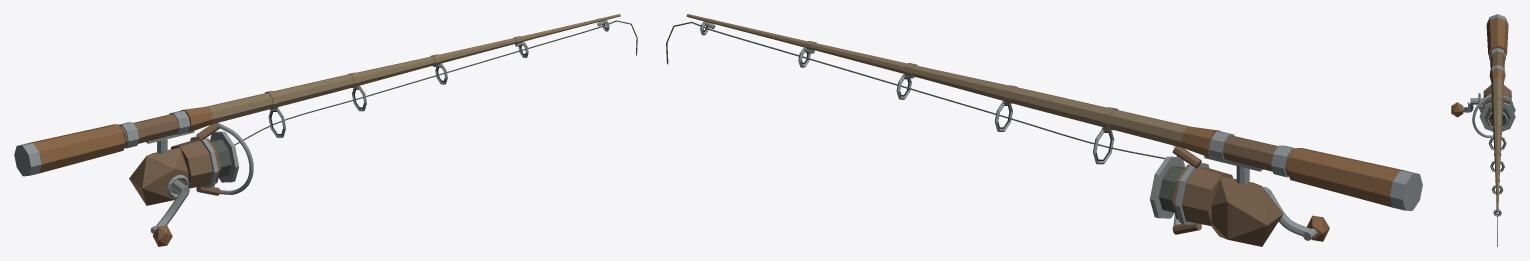
Rendered from rod-lv1.glb.
3 renders of one model, left to right at view 1: azimuth 30°, elevation 25°; view 2: azimuth 150°, elevation 25°; view 3: azimuth 270°, elevation 25°, orthographic. The views are drawn at different scales.
Parts seen in each view (by area): view 1: Continuous_Tapered_Blank, Rear_Grip, Gear_Housing, Rotor, Reel_Seat, Continuous_Fishing_Line, Butt_Cap, Spool_Front_Lip, Fore_Grip, Bail_Wire, Wound_Spool, Crank_Arm (+1 smaller); view 2: Continuous_Tapered_Blank, Rear_Grip, Gear_Housing, Rotor, Reel_Seat, Continuous_Fishing_Line, Butt_Cap, Spool_Front_Lip, Fore_Grip, Wound_Spool, Spool_Rear_Flange, Seat_Locking_Nut (+2 smaller); view 3: Continuous_Tapered_Blank, Rear_Grip, Spool_Front_Lip, Bail_Wire, Reel_Seat, Fore_Grip, Crank_Grip, Wound_Spool, Rotor, Gear_Housing, Spool_Rear_Flange, Seat_Locking_Nut (+8 smaller).
Part boxes in pixels (x1,y1,x2,y2): Continuous_Tapered_Blank: [205, 14, 620, 124]; Rear_Grip: [28, 124, 125, 173]; Gear_Housing: [129, 147, 188, 205]; Rotor: [171, 138, 220, 188]; Reel_Seat: [120, 114, 179, 147]; Continuous_Fishing_Line: [234, 20, 637, 145]; Butt_Cap: [14, 143, 41, 176]; Spool_Front_Lip: [210, 131, 239, 182]; Fore_Grip: [181, 107, 213, 132]; Bail_Wire: [218, 123, 253, 194]; Wound_Spool: [210, 139, 231, 177]; Crank_Arm: [154, 190, 188, 228]; Continuous_Tapered_Blank: [686, 14, 1189, 147]; Rear_Grip: [1287, 148, 1406, 207]; Gear_Housing: [1211, 176, 1283, 246]; Rotor: [1172, 164, 1232, 226]; Reel_Seat: [1222, 135, 1294, 175]; Continuous_Fishing_Line: [666, 21, 1165, 159]; Butt_Cap: [1389, 171, 1422, 210]; Spool_Front_Lip: [1149, 156, 1185, 218]; Fore_Grip: [1181, 126, 1220, 157]; Wound_Spool: [1159, 166, 1184, 212]; Spool_Rear_Flange: [1175, 163, 1209, 224]; Seat_Locking_Nut: [1271, 145, 1295, 177]; Continuous_Tapered_Blank: [1491, 77, 1503, 212]; Rear_Grip: [1486, 17, 1508, 55]; Spool_Front_Lip: [1479, 102, 1515, 131]; Bail_Wire: [1472, 94, 1493, 137]; Reel_Seat: [1490, 52, 1504, 69]; Fore_Grip: [1489, 68, 1505, 82]; Crank_Grip: [1451, 102, 1463, 117]; Wound_Spool: [1484, 108, 1510, 125]; Rotor: [1481, 91, 1513, 111]; Gear_Housing: [1483, 85, 1511, 99]; Spool_Rear_Flange: [1479, 95, 1515, 112]; Seat_Locking_Nut: [1489, 47, 1505, 60].
Size of the model in its own units: 2 by 0.3235 by 0.2782.
